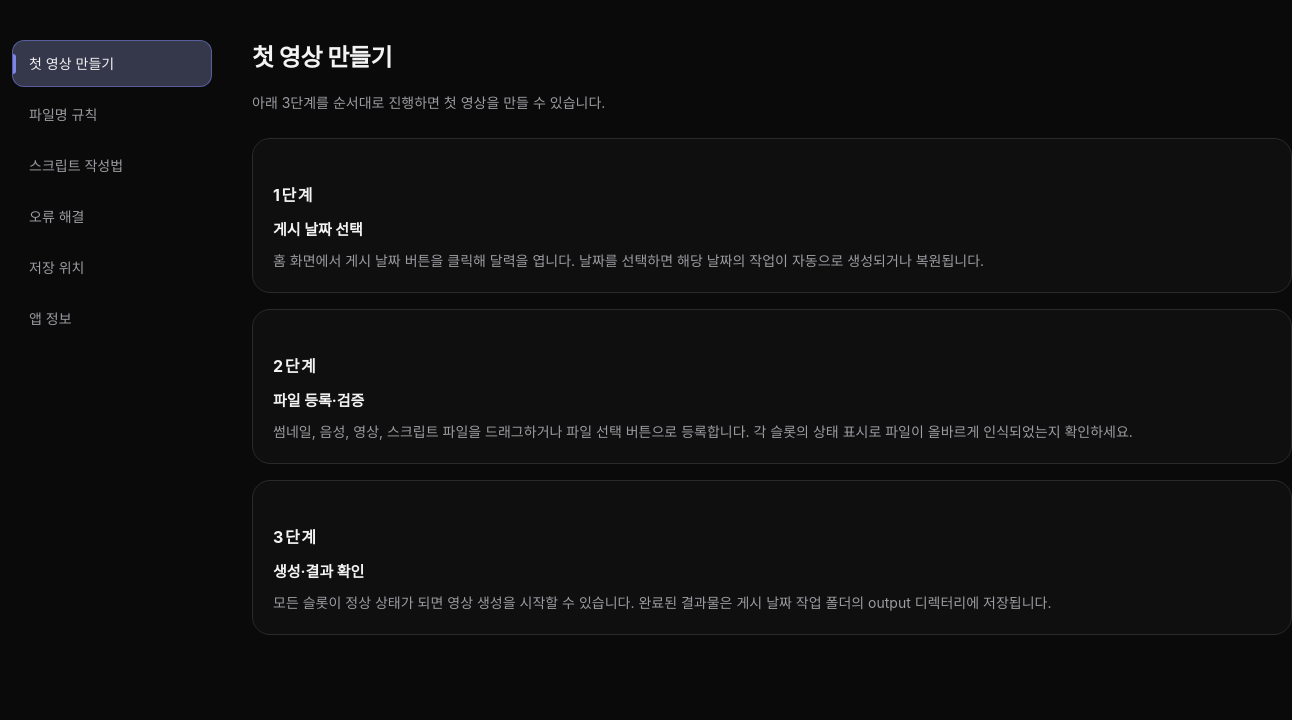
Test: GuideView › shows error troubleshooting actions in 오류 해결 section
Click the button "오류 해결" at (112, 216), box [12,193,212,240]
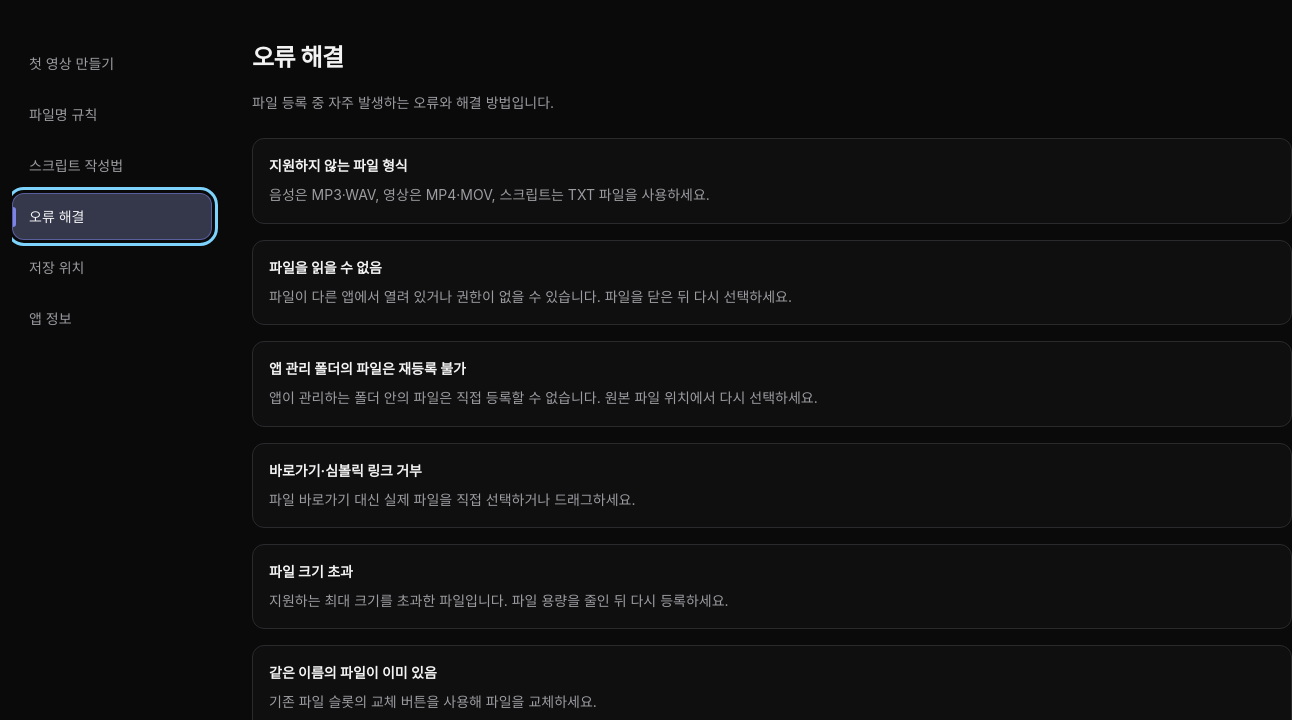
Result: the list item "지원하지 않는 파일 형식 음성은 MP3·WAV, 영상은 MP4·MOV, 스크립트는 TXT 파일을 사용하세요." is shown at [252,138,1291,224]
